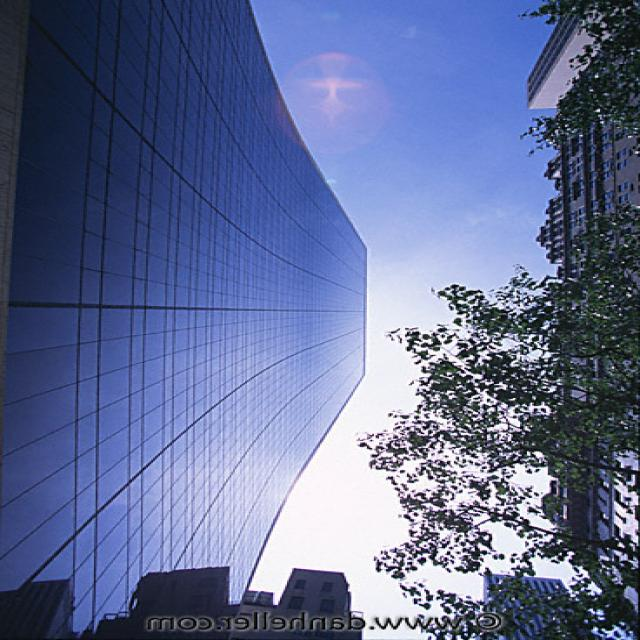building: (0, 2, 365, 640), (527, 0, 640, 640), (229, 564, 360, 640), (487, 571, 595, 640)
